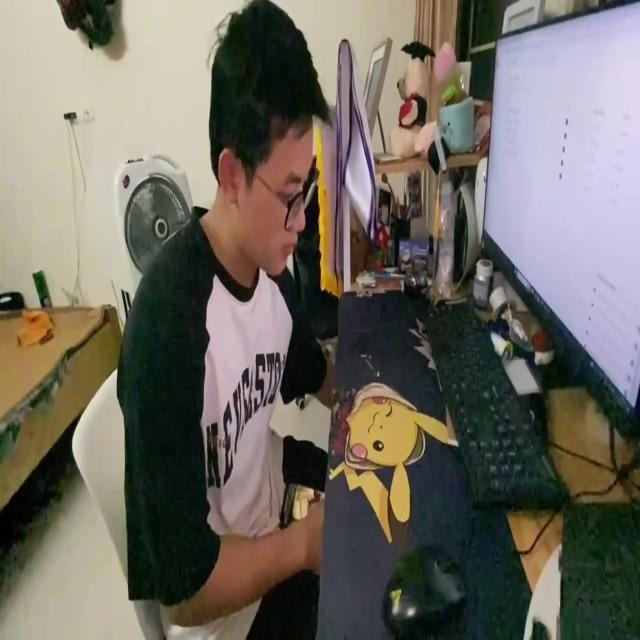laptop: (479, 0, 640, 447)
phone: (282, 478, 324, 521)
student: (117, 0, 331, 640)
